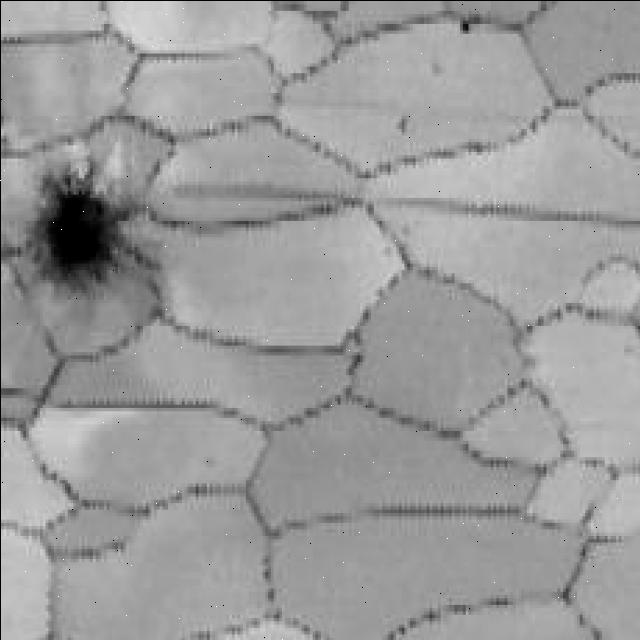good_void: (28, 156, 162, 297), (395, 114, 413, 135), (457, 17, 472, 36)
